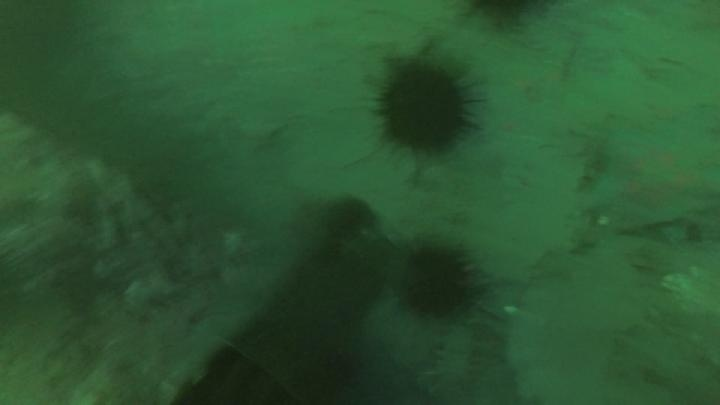echinus: (372, 58, 479, 157), (399, 243, 480, 322), (323, 196, 375, 239)
holothurian: (425, 322, 480, 403), (570, 126, 609, 195)
starfish: (583, 119, 719, 236)
